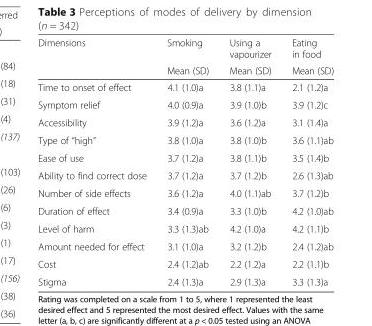table: (37, 36, 333, 287)
table column: (37, 36, 156, 287), (156, 36, 218, 287), (218, 36, 280, 287), (280, 36, 333, 287)
table column header: (37, 36, 333, 78)
table row: (37, 36, 333, 61), (37, 95, 333, 113), (37, 113, 333, 131), (37, 148, 333, 166), (37, 166, 333, 184), (37, 201, 333, 219), (37, 219, 333, 237), (37, 254, 333, 272), (37, 61, 333, 78), (37, 78, 333, 95), (37, 131, 333, 148), (37, 184, 333, 201), (37, 237, 333, 254), (37, 272, 333, 287)
table spanning cell: (37, 36, 156, 78), (156, 36, 218, 78), (218, 36, 280, 78), (280, 36, 333, 78)
